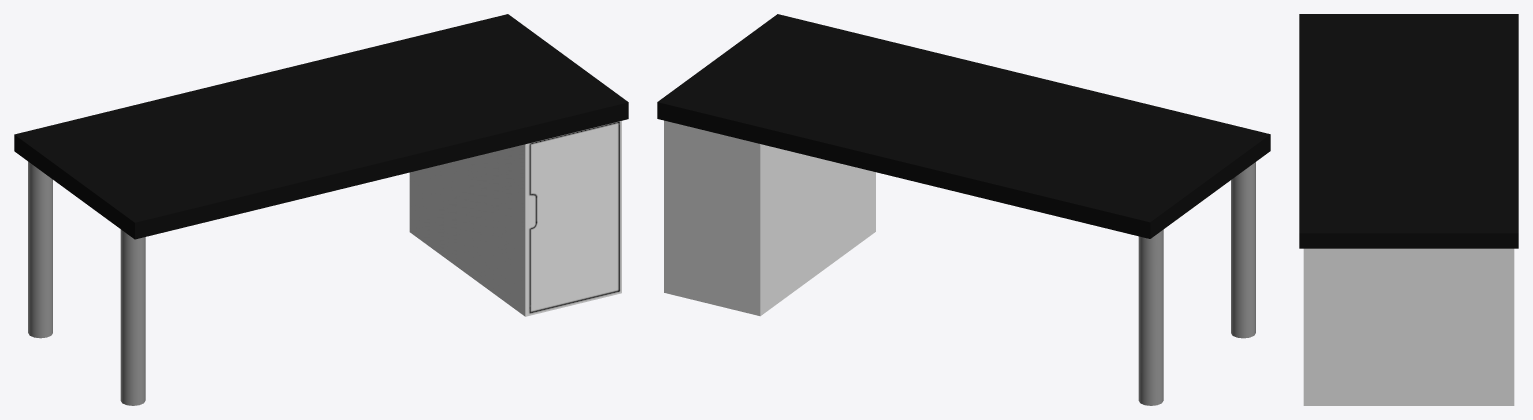
Rendered from desk.FBX.
3 views of the same model, side by side, from view 1: azimuth 30°, elevation 25°; view 2: azimuth 150°, elevation 25°; view 3: azimuth 270°, elevation 25° (orthographic). The views are drawn at different scales.
Visible parts, largest first — view 1: desk; view 2: desk; view 3: desk.
Boxes of the visible parts, x1=… form: desk: x1=14, y1=14, x2=628, y2=405; desk: x1=657, y1=14, x2=1270, y2=405; desk: x1=1299, y1=14, x2=1518, y2=405.
Bounding box in the file's own units: 118 × 43.83 × 50.
Materials: 1 (1 with a texture image).
